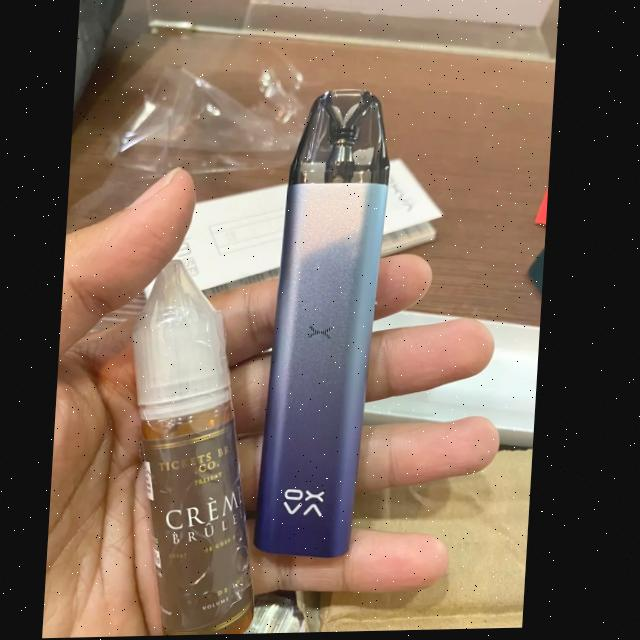vape: (257, 87, 399, 561)
